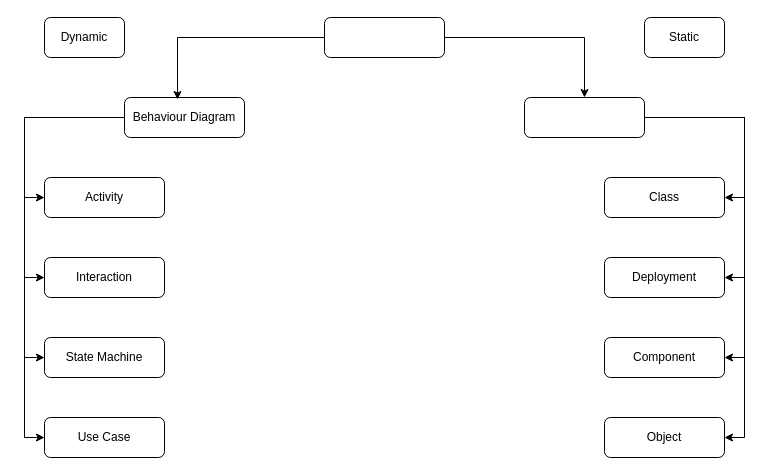
This 770x475 diagram has some shape labels left out. The shapes that lost their labels are listed below. From the top down, each one's centre as x and y in pixels, then its label:
At (x=384, y=37): "UML Diagram".
At (x=584, y=117): "Structure Diagram".
